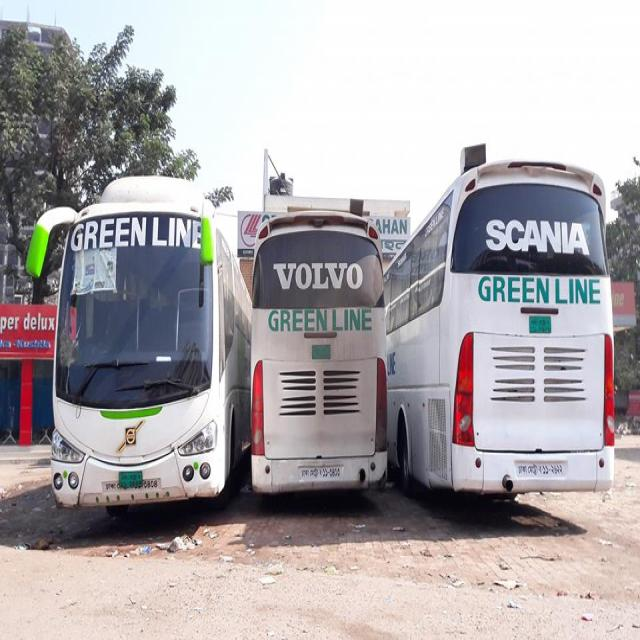bus: (23, 171, 250, 510), (386, 160, 615, 494), (250, 209, 386, 494)
